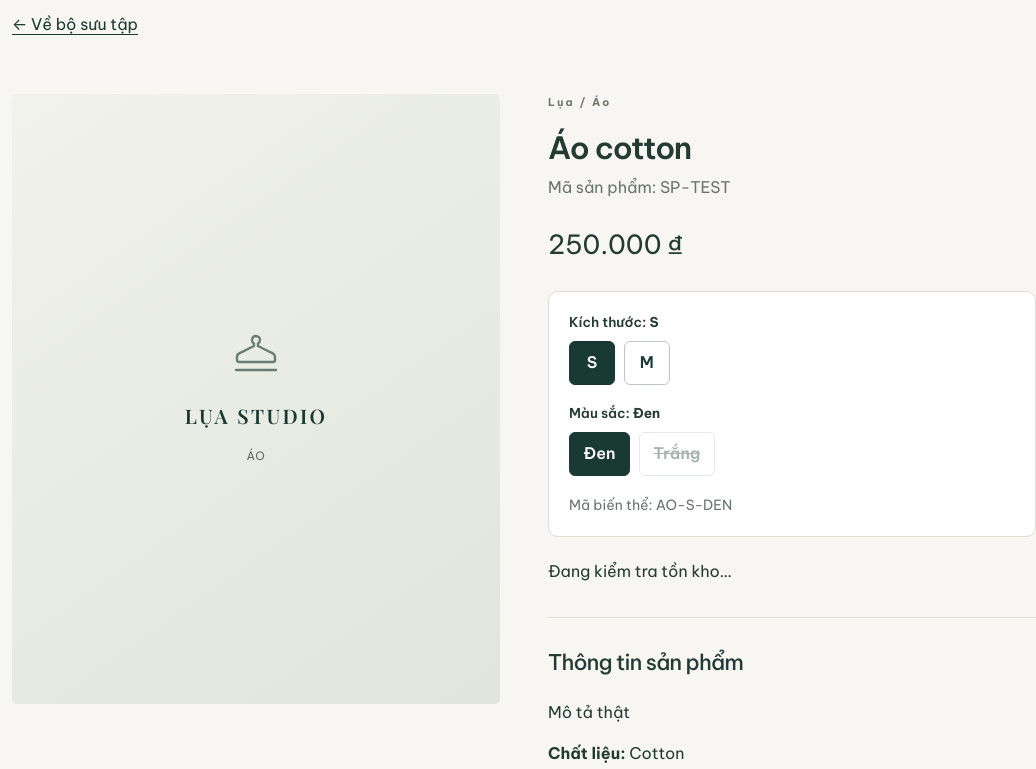
chọn size và màu chỉ dùng tổ hợp biến thể có thật
Expected: the button with aria-label "Màu Trắng" is disabled, x1=639 y1=432 x2=715 y2=476
Click the button named "Size M": (647, 363) x1=624 y1=341 x2=670 y2=385
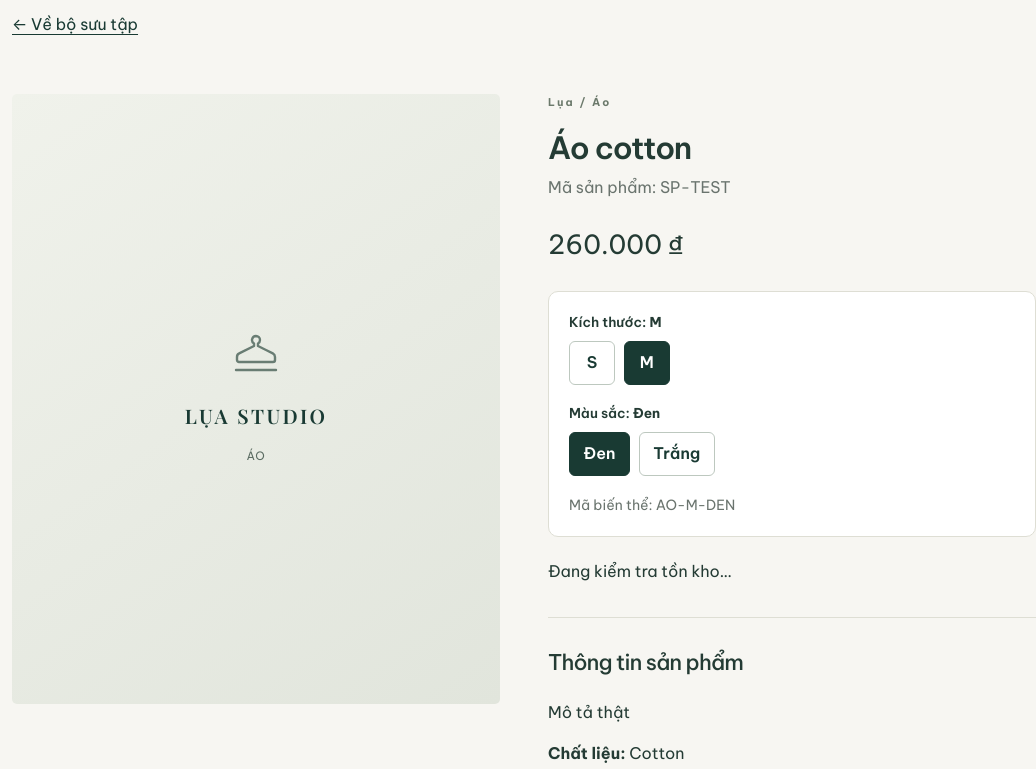
Now the button with aria-label "Màu Trắng" is enabled
Click the button with aria-label "Màu Trắng": (677, 454) x1=639 y1=432 x2=715 y2=476
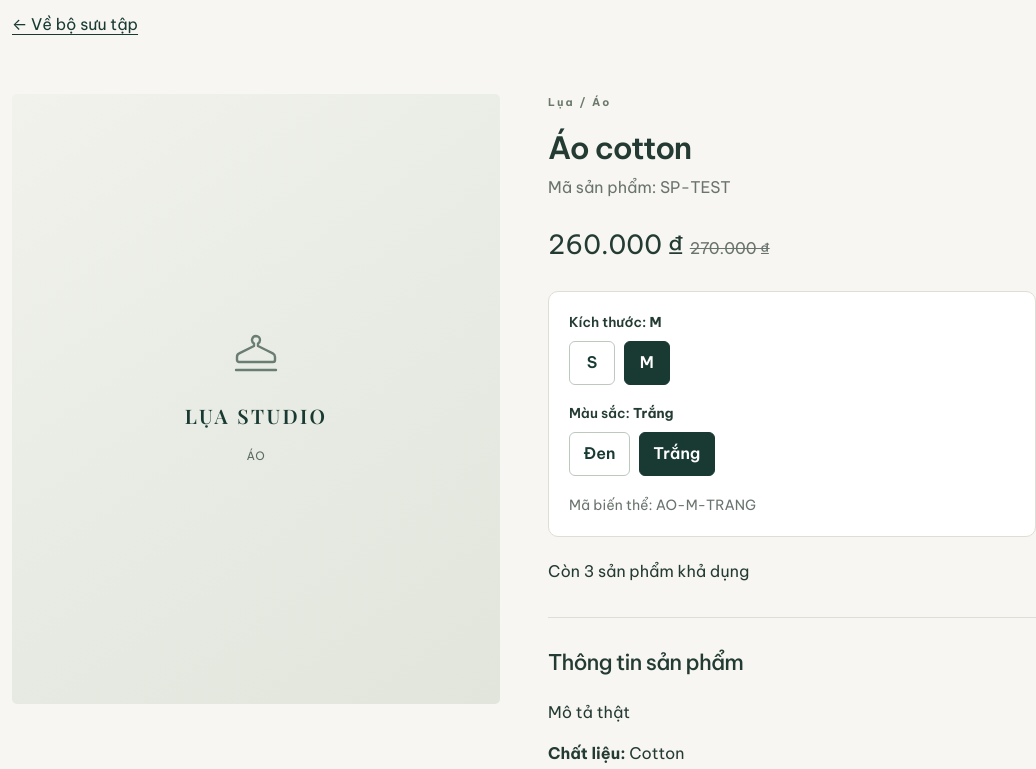
Now the text "Mã biến thể: AO-M-TRANG" is shown, box x1=569 y1=496 x2=756 y2=514
